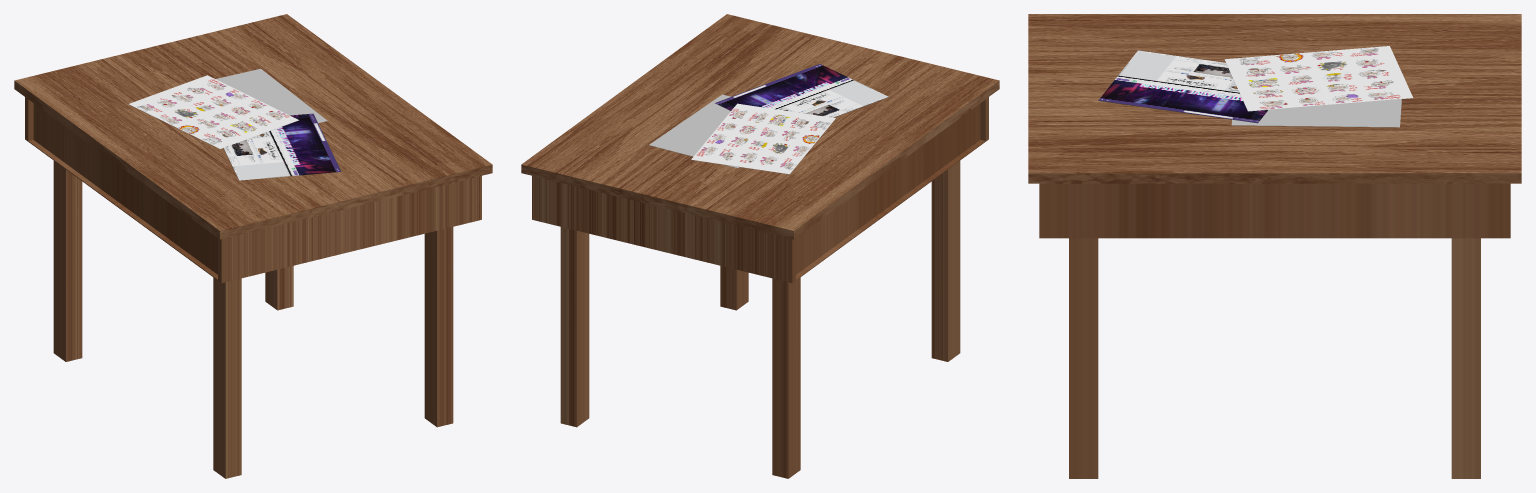
The model's file is catsasin.fbx.
3 renders of one model, left to right at view 1: azimuth 30°, elevation 25°; view 2: azimuth 150°, elevation 25°; view 3: azimuth 270°, elevation 25°, orthographic. The views are drawn at different scales.
Visible parts, largest first — view 1: pCube1, pasted__pasted__pPlane1; view 2: pCube1, pasted__pasted__pPlane1; view 3: pCube1, pasted__pasted__pPlane1.
Part boxes in pixels (<box>): pCube1: <box>14,14,492,478</box>; pasted__pasted__pPlane1: <box>128,68,341,180</box>; pCube1: <box>521,14,999,478</box>; pasted__pasted__pPlane1: <box>649,64,888,174</box>; pCube1: <box>1028,14,1521,478</box>; pasted__pasted__pPlane1: <box>1098,46,1412,127</box>.
Bounding box in the file's own units: 1.74 × 1.64 × 2.28.
